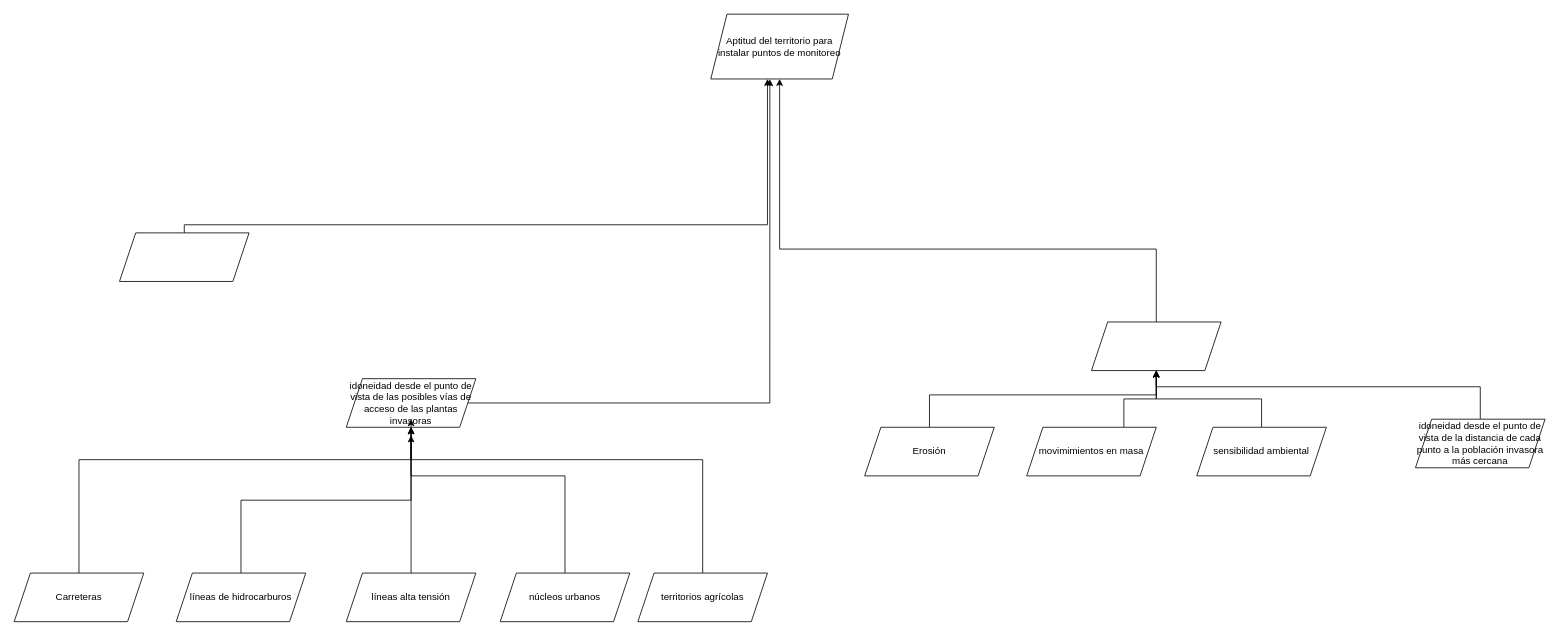
This 1559x636 diagram has some shape labels left out. Here are the shapes that lost their labels. From the top down, the box of each, then its label:
(119, 232, 249, 281): idoneidad del hábitat para que viva la especie invasora
(1091, 321, 1221, 371): idoneidad desde el punto de vista de la vulnerabilidad ecológica
